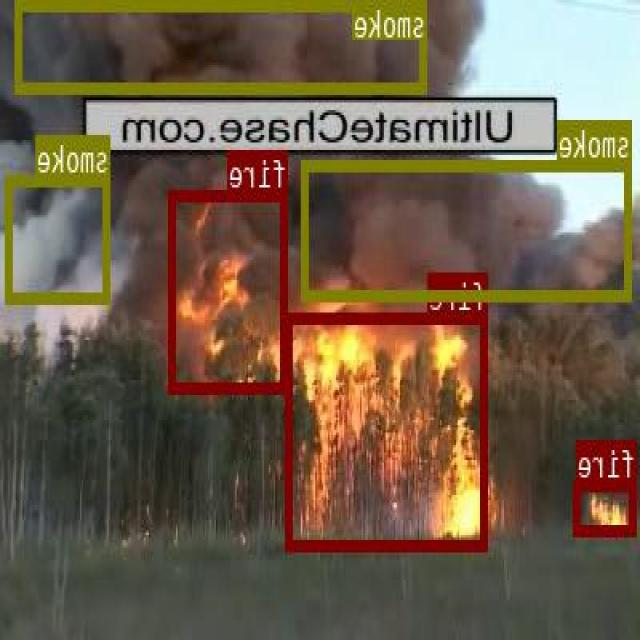fire: (286, 312, 489, 548), (171, 188, 289, 392), (576, 478, 638, 534)
smoke: (303, 158, 632, 299), (17, 0, 428, 90), (8, 173, 111, 302)
